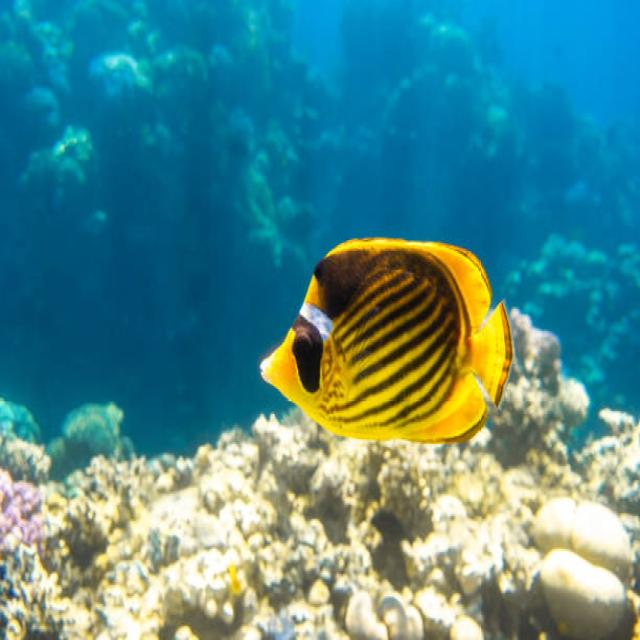ButterflyFish: (255, 231, 516, 448)
